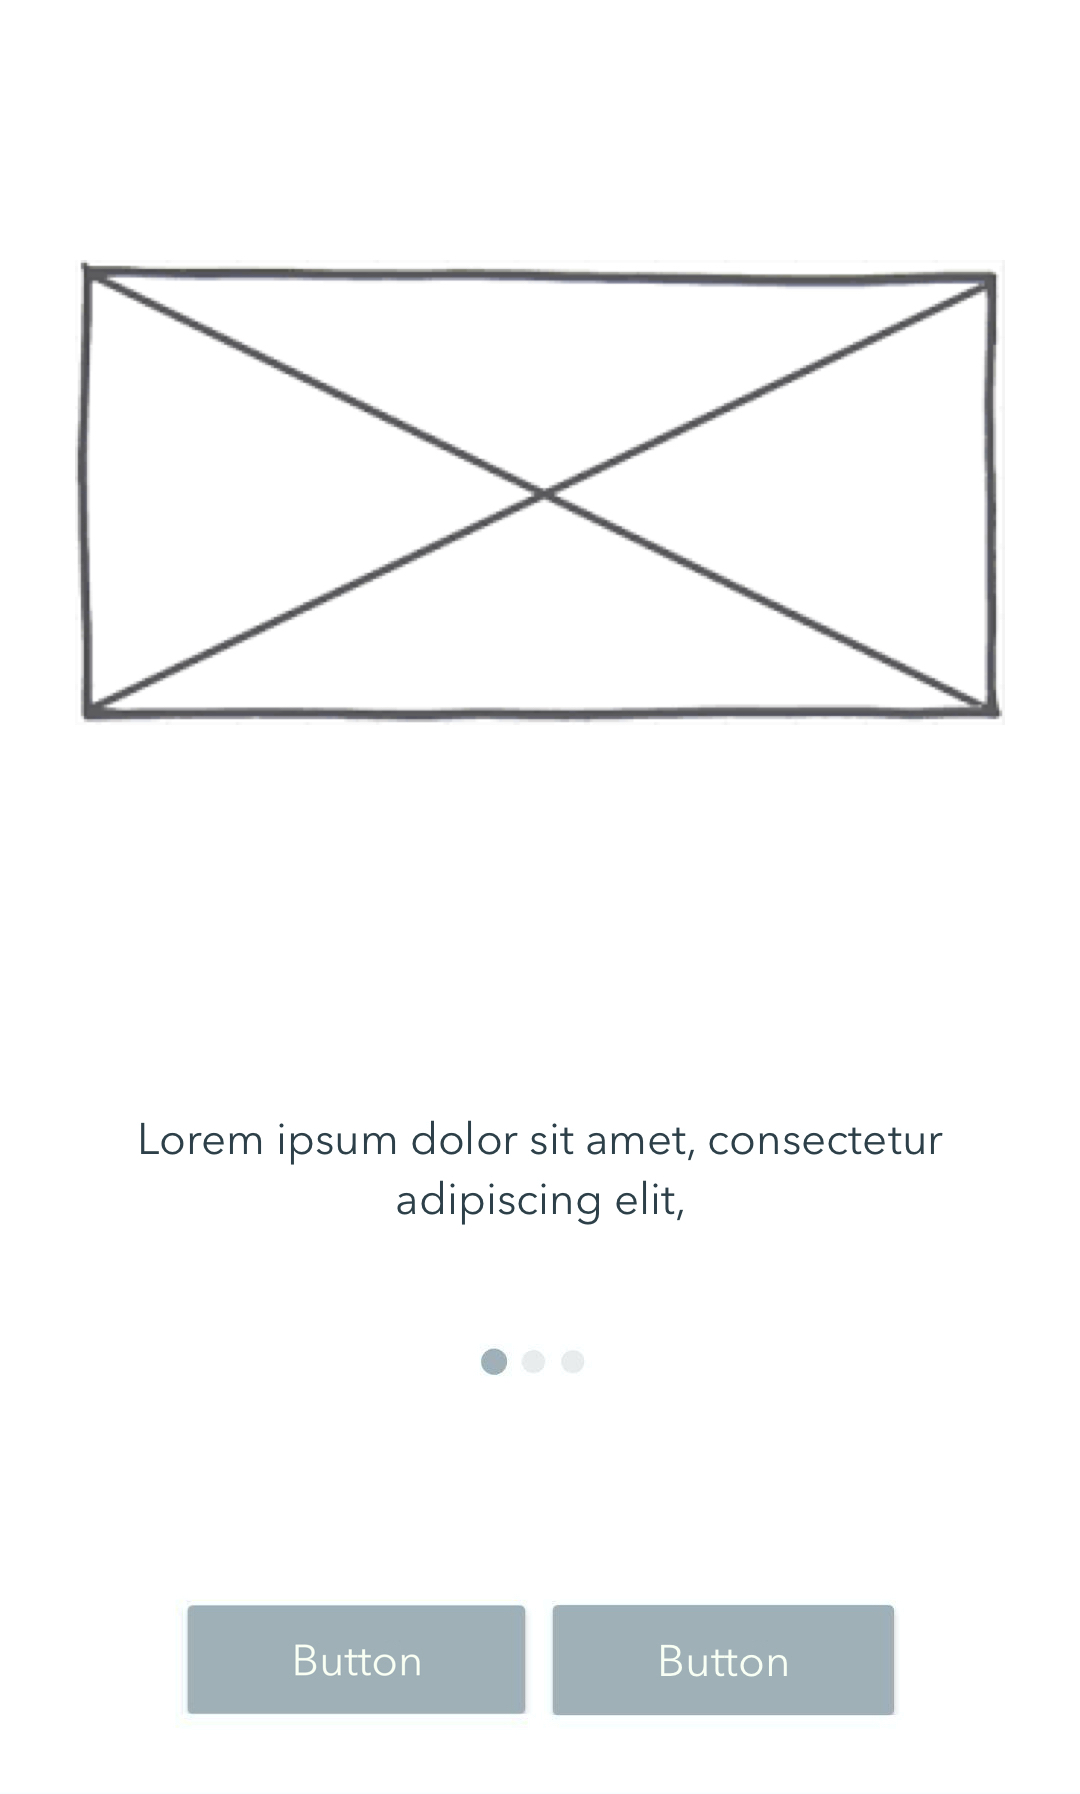Image: (76, 261, 1003, 724)
PageIndicator: (480, 1348, 585, 1378)
Text: (140, 1120, 943, 1226)
TextButton: (552, 1604, 896, 1716), (187, 1603, 527, 1715)
